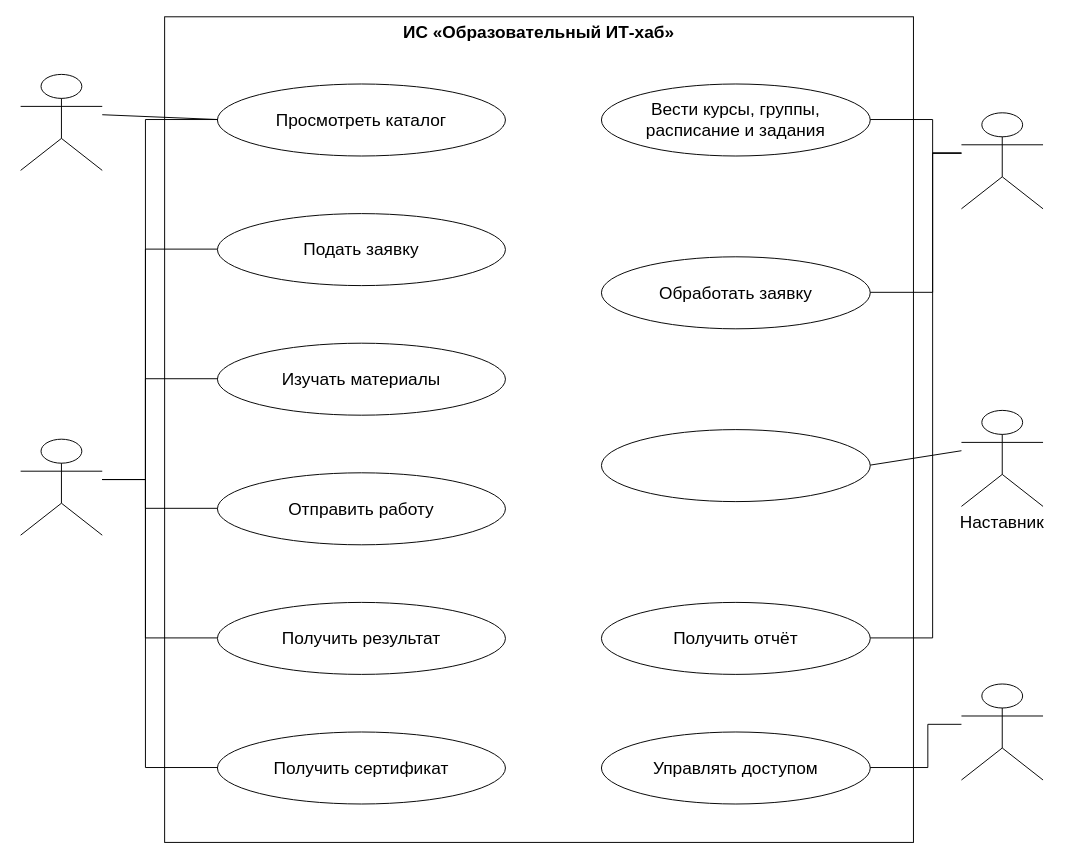
This 1081x859 diagram has some shape labels left out. The shapes that lost their labels are listed below. From the top down, each one's centre as x and y in pixels, then its label:
point (61, 121): Гость
point (1001, 160): Координатор
point (735, 465): Проверить работу
point (61, 486): Слушатель
point (1001, 731): Администратор
